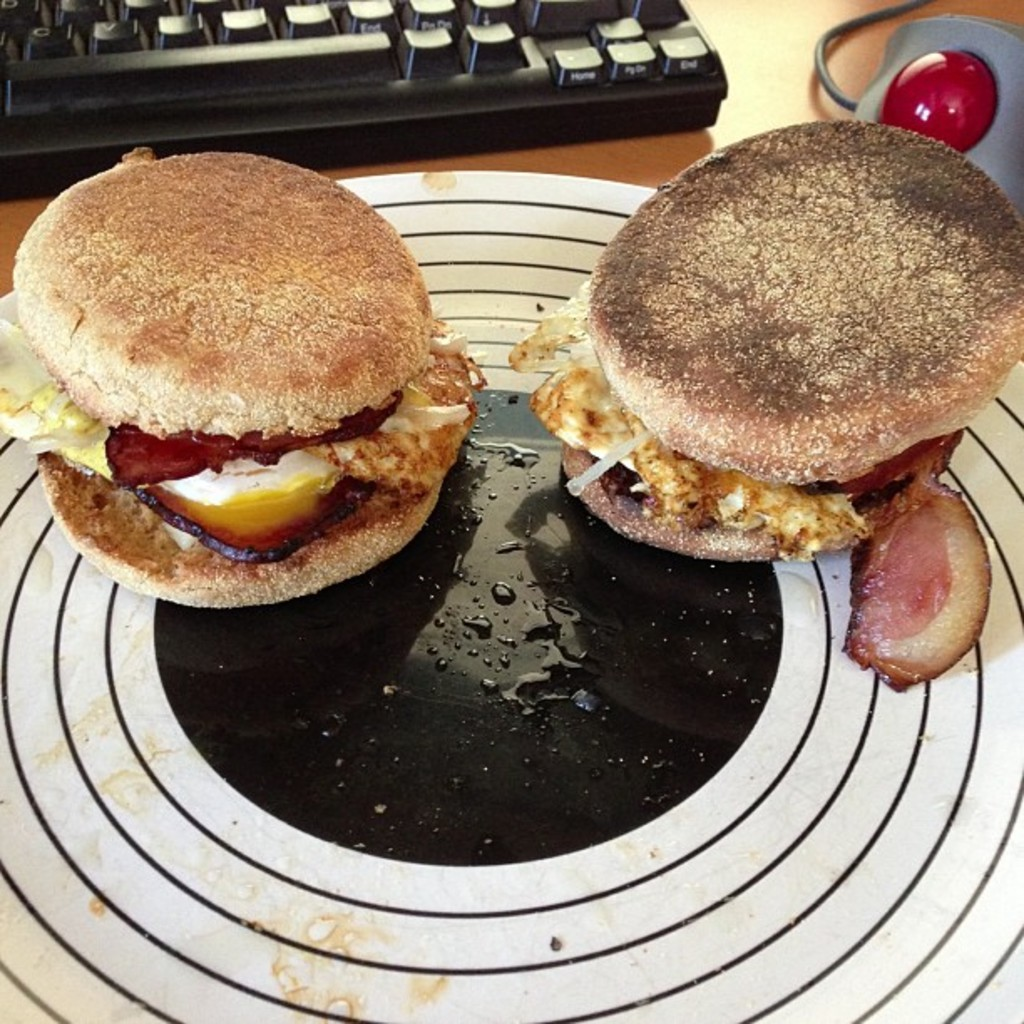Hamburger: (506, 117, 1017, 692), (0, 150, 466, 602)
